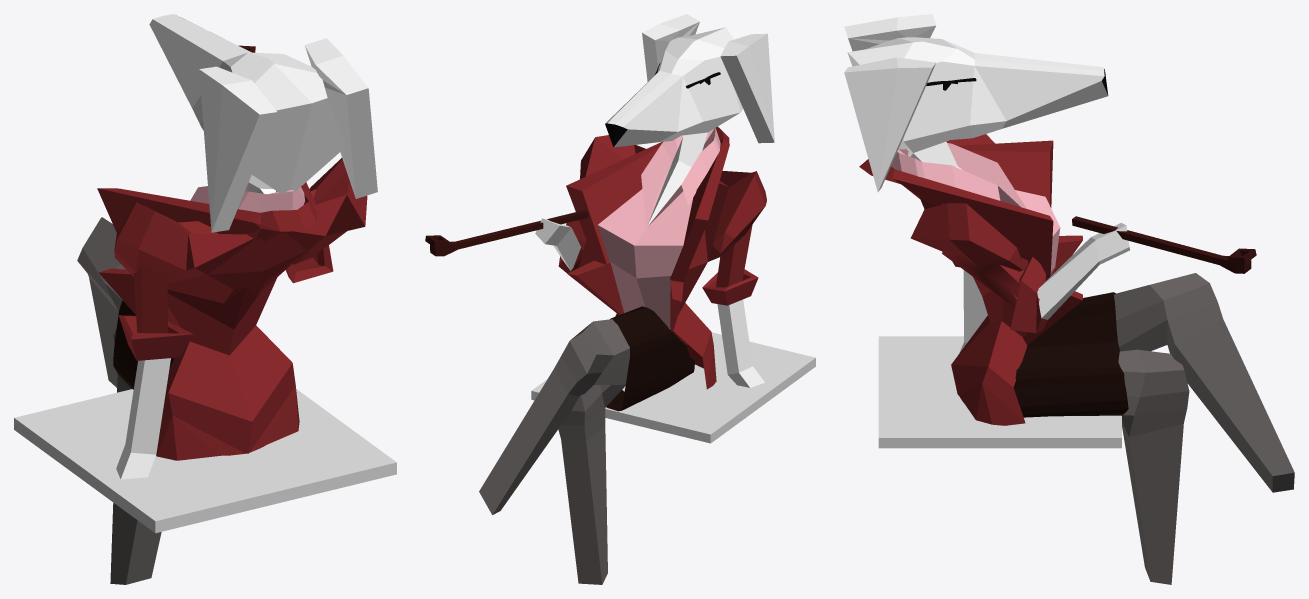
3 views of the same model, side by side, from view 1: azimuth 30°, elevation 25°; view 2: azimuth 150°, elevation 25°; view 3: azimuth 270°, elevation 25° (orthographic). The views are drawn at different scales.
Visible parts, largest first — view 1: torsoandhead, torsoandhead.001, smt she sit on, right leg, collar, right hand.001, right hand, torsoandhead.002, skirt; view 2: right leg, torsoandhead.001, torsoandhead.002, smt she sit on, collar, torsoandhead, skirt, right hand, right hand.001, pipe; view 3: right leg, torsoandhead.001, smt she sit on, torsoandhead, skirt, collar, torsoandhead.002, right hand, right hand.001, pipe.
Boxes of the visible parts, left/top/right/bottom form: torsoandhead: left=114, top=158, right=367, bottom=460; torsoandhead.001: left=149, top=14, right=377, bottom=232; smt she sit on: left=14, top=389, right=396, bottom=533; right leg: left=77, top=217, right=161, bottom=584; collar: left=97, top=182, right=317, bottom=358; right hand.001: left=118, top=231, right=346, bottom=360; right hand: left=116, top=358, right=170, bottom=479; torsoandhead.002: left=190, top=182, right=304, bottom=212; skirt: left=113, top=300, right=173, bottom=389; right leg: left=479, top=319, right=629, bottom=584; torsoandhead.001: left=605, top=14, right=774, bottom=226; torsoandhead.002: left=598, top=128, right=720, bottom=329; smt she sit on: left=531, top=332, right=815, bottom=443; collar: left=566, top=126, right=729, bottom=331; torsoandhead: left=580, top=135, right=766, bottom=389; skirt: left=606, top=306, right=694, bottom=411; right hand: left=535, top=218, right=764, bottom=387; right hand.001: left=558, top=220, right=758, bottom=305; pipe: left=425, top=210, right=588, bottom=256; right leg: left=1113, top=273, right=1294, bottom=584; torsoandhead.001: left=844, top=14, right=1107, bottom=191; smt she sit on: left=878, top=336, right=1121, bottom=448; torsoandhead: left=910, top=134, right=1027, bottom=425; skirt: left=1013, top=292, right=1128, bottom=417; collar: left=859, top=140, right=1082, bottom=345; torsoandhead.002: left=891, top=143, right=1060, bottom=275; right hand: left=959, top=223, right=1129, bottom=352; right hand.001: left=942, top=250, right=1047, bottom=333; pipe: left=1072, top=216, right=1256, bottom=273.
Size of the model in its own units: 442 by 846 by 640.
